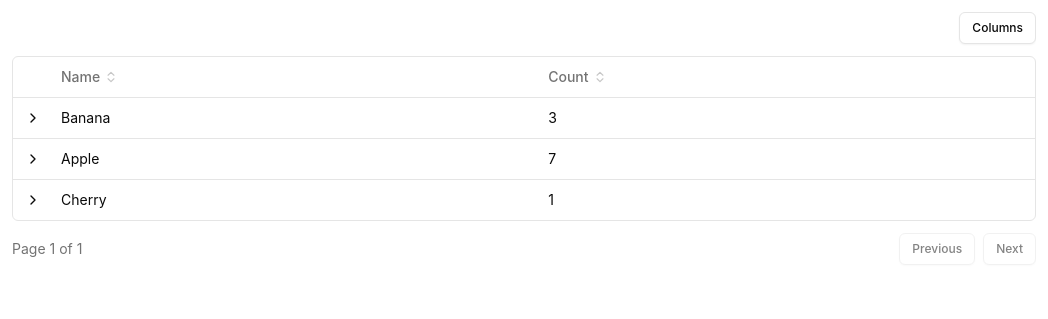
Test case: DataTable › expands a row to reveal sub-row content and collapses it again
Expected: the text "Details for Banana" is not shown
What coordinates should you click on to do the following:
click the button named "Expand row" next to "Banana"
I would click on:
 (33, 118)
Its box is [21, 106, 45, 130].
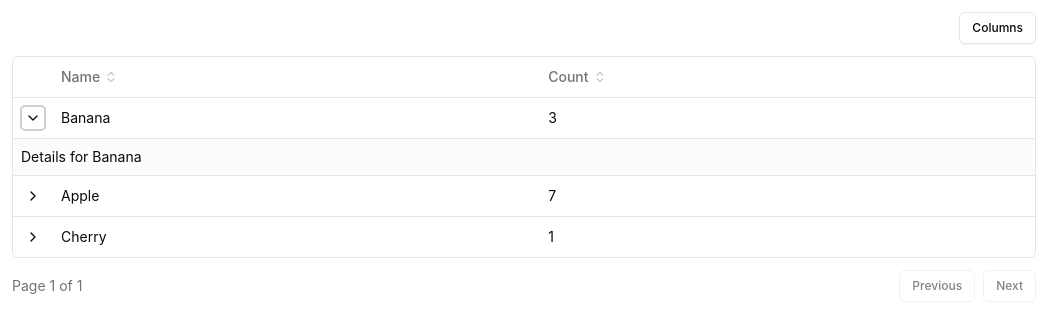
Result: the text "Details for Banana" is shown at [21, 148, 142, 164]
What coordinates should you click on to do the following:
click the button named "Collapse row"
I would click on:
 (33, 118)
Its box is [21, 106, 45, 130].
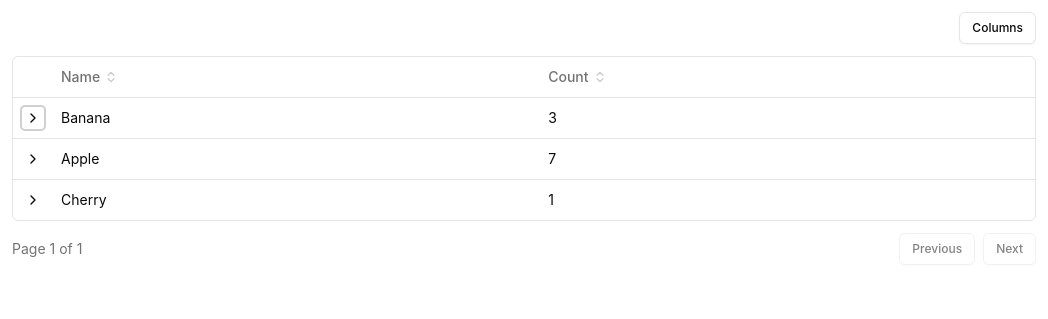
Result: the text "Details for Banana" is gone
